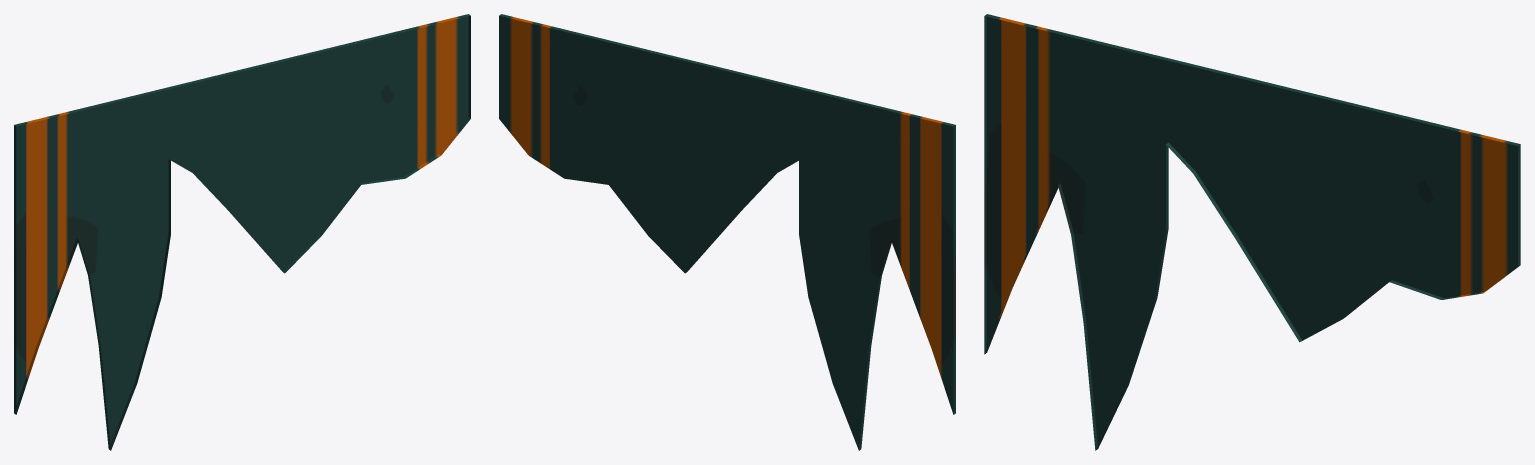
File: Carpet 01 End 04.FBX
3 renders of one model, left to right at view 1: azimuth 30°, elevation 25°; view 2: azimuth 150°, elevation 25°; view 3: azimuth 330°, elevation 25°, orthographic. The views are drawn at different scales.
Parts seen in each view (by area): view 1: Carpet 01 End 04; view 2: Carpet 01 End 04; view 3: Carpet 01 End 04.
Boxes of the visible parts, box(x1,y1,x2,y2) form: Carpet 01 End 04: box(14, 14, 470, 450); Carpet 01 End 04: box(499, 14, 955, 450); Carpet 01 End 04: box(984, 14, 1520, 450).
Size of the model in its own units: 167 by 122 by 1.5.
